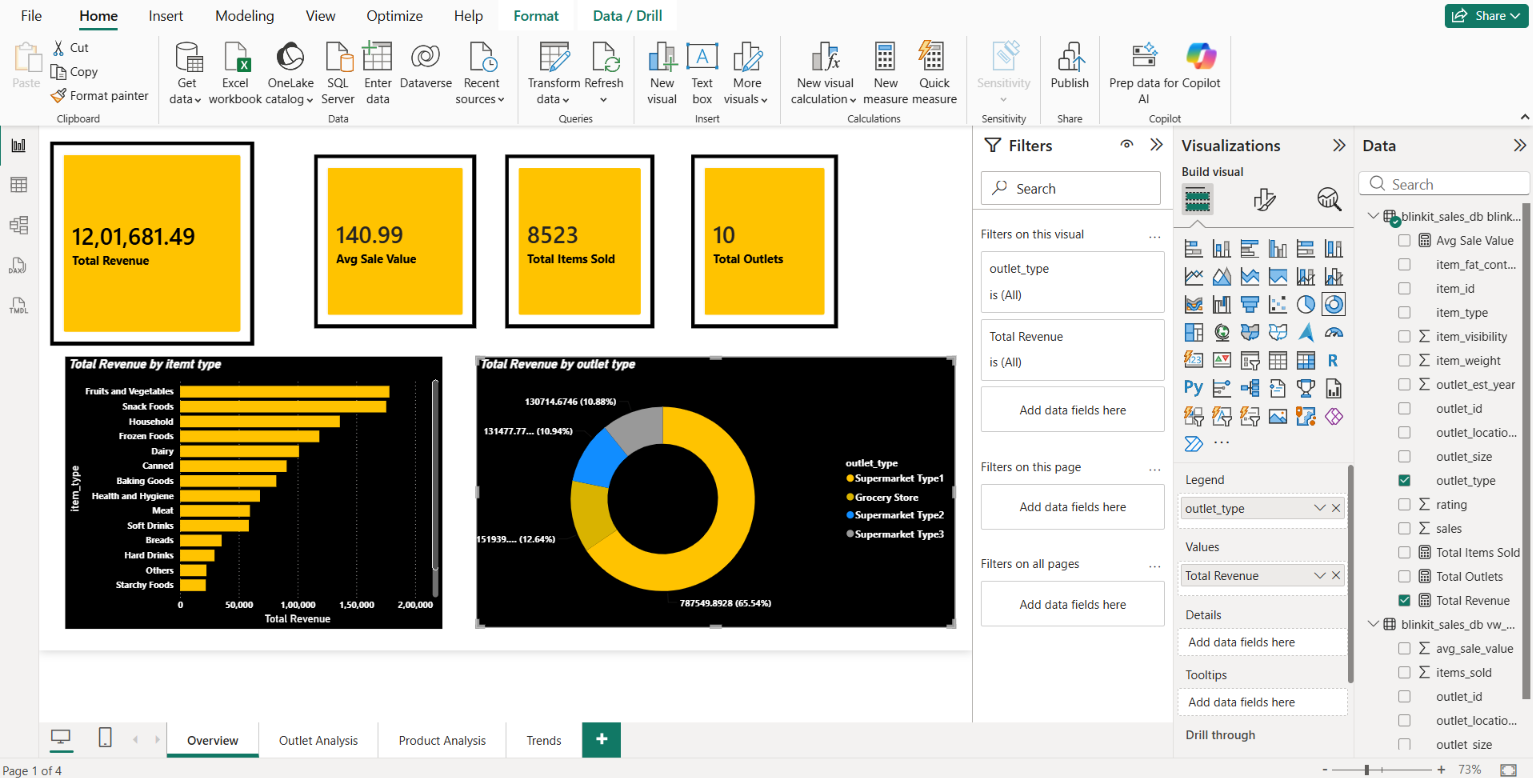

The page's visual inventory and layout, read from the dashboard file:
{"tool":"powerbi","page":{"name":"Overview ","canvas":[1280,720],"ordinal":0},"visuals":[{"type":"cardVisual","fields":{"Data":["blinkit_sales_db blinkit_cleaned.Total Revenue"]},"box":[15.1,22,279.9,279.9],"z":0},{"type":"cardVisual","fields":{"Data":["blinkit_sales_db blinkit_cleaned.Avg Sale Value"]},"box":[377.4,39.8,222.3,238.8],"z":1000},{"type":"cardVisual","fields":{"Data":["blinkit_sales_db blinkit_cleaned.Total Items Sold"]},"box":[639.5,39.8,204.5,238.8],"z":2000},{"type":"cardVisual","fields":{"Data":["blinkit_sales_db blinkit_cleaned.Total Outlets"]},"box":[894.7,39.8,201.7,244.3],"z":3000},{"type":"clusteredBarChart","title":"Total Revenue by itemt type","fields":{"Category":["blinkit_sales_db blinkit_cleaned.item_type"],"Y":["blinkit_sales_db blinkit_cleaned.Total Revenue"]},"box":[35.7,317,517.3,373.2],"z":4000},{"type":"donutChart","title":"Total Revenue by outlet type","fields":{"Category":["blinkit_sales_db blinkit_cleaned.outlet_type"],"Y":["blinkit_sales_db blinkit_cleaned.Total Revenue"]},"box":[599.7,317,657.3,371.9],"z":5000},{"type":"textbox","box":[1097,40,160,244],"z":6000}]}

Visuals, with their boxes on the page's 1280x720 design canvas (x1, y1, x2, y2). These are canvas units, not pixel positions in the 1533x778 screenshot, which may show the page scaled, cropped or inside an application window:
cardVisual - blinkit_sales_db blinkit_cleaned.Total Revenue: detection(15, 22, 295, 302)
cardVisual - blinkit_sales_db blinkit_cleaned.Avg Sale Value: detection(377, 40, 600, 279)
cardVisual - blinkit_sales_db blinkit_cleaned.Total Items Sold: detection(640, 40, 844, 279)
cardVisual - blinkit_sales_db blinkit_cleaned.Total Outlets: detection(895, 40, 1096, 284)
"Total Revenue by itemt type" clusteredBarChart: detection(36, 317, 553, 690)
"Total Revenue by outlet type" donutChart: detection(600, 317, 1257, 689)
textbox: detection(1097, 40, 1257, 284)
